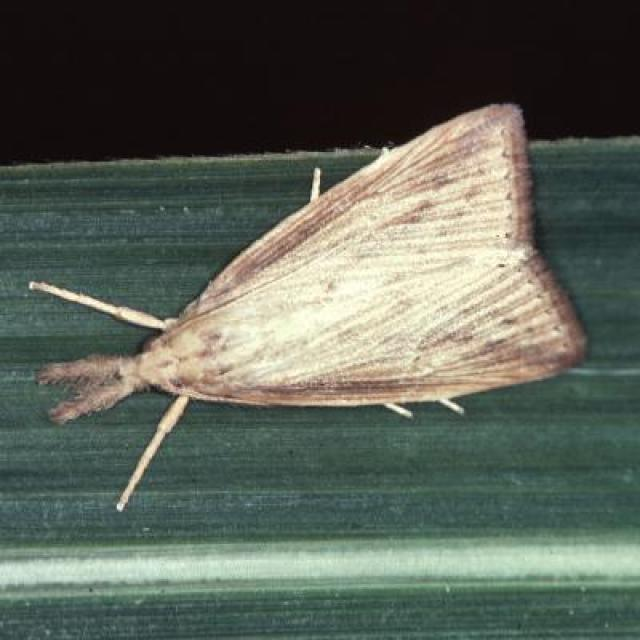yellow-stem-borer: (33, 63, 607, 555)
